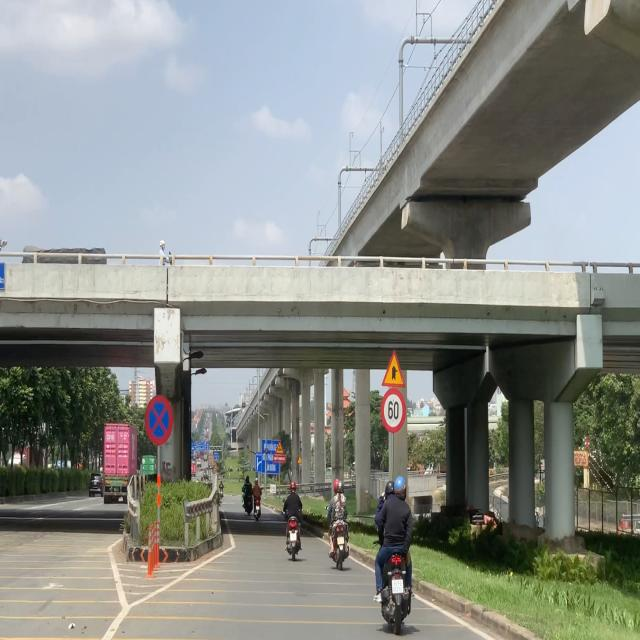Cam dung va do: (144, 394, 174, 446)
Giao voi duong khong uu tien: (381, 349, 407, 388)
Nguy hiem: (276, 441, 284, 454)
Toc do toi da: (381, 388, 406, 434)
